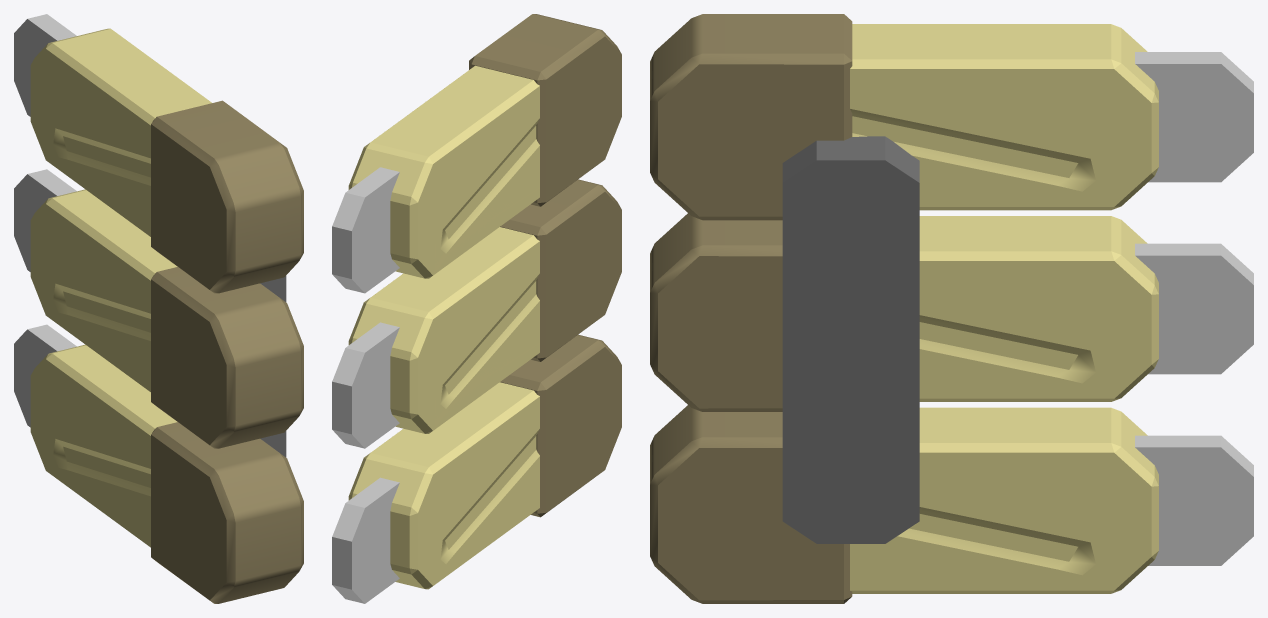
The model's file is Battery.fbx.
3 views of the same model, side by side, from view 1: azimuth 30°, elevation 25°; view 2: azimuth 150°, elevation 25°; view 3: azimuth 270°, elevation 25° (orthographic). The views are drawn at different scales.
Visible parts, largest first — view 1: pCube259 (×3), pCube263, pCube262, pCube260, pCube261 (×3), pCube264; view 2: pCube259 (×3), pCube261 (×3), pCube263, pCube262, pCube260; view 3: pCube259 (×3), pCube264, pCube261 (×3), pCube263, pCube260, pCube262.
Boxes of the visible parts, bbox=[...] form: pCube259 (×3): bbox=[30, 28, 211, 547]; pCube263: bbox=[151, 100, 303, 293]; pCube262: bbox=[151, 267, 303, 448]; pCube260: bbox=[151, 422, 303, 603]; pCube261 (×3): bbox=[14, 14, 76, 427]; pCube264: bbox=[260, 275, 286, 457]; pCube259 (×3): bbox=[348, 65, 539, 589]; pCube261 (×3): bbox=[332, 167, 399, 603]; pCube263: bbox=[469, 14, 621, 206]; pCube262: bbox=[500, 179, 621, 361]; pCube260: bbox=[500, 334, 621, 517]; pCube259 (×3): bbox=[850, 24, 1158, 593]; pCube264: bbox=[782, 136, 919, 543]; pCube261 (×3): bbox=[1135, 52, 1253, 565]; pCube263: bbox=[650, 14, 852, 220]; pCube260: bbox=[650, 405, 852, 603]; pCube262: bbox=[650, 213, 782, 411].
Bounding box in the file's own units: 0.9461 × 3.65 × 3.63.
